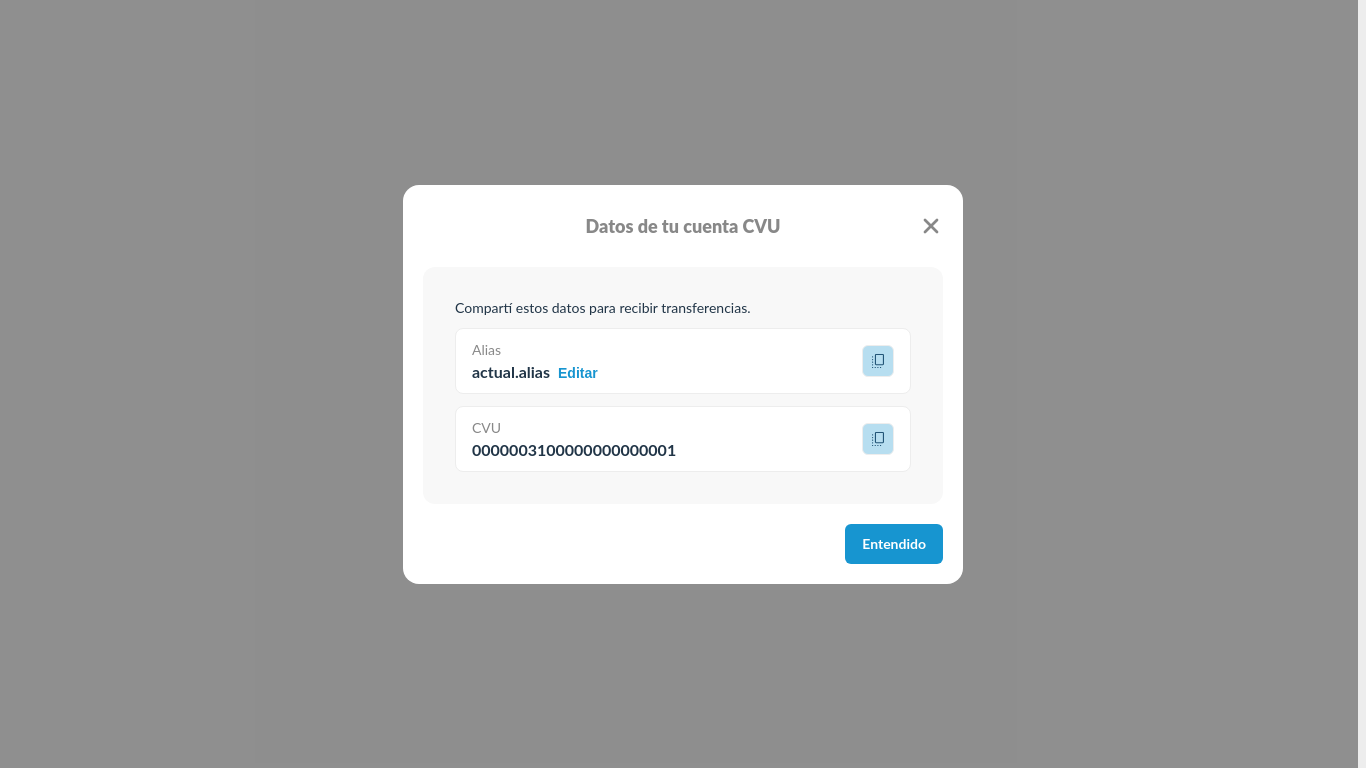
AccountDetailsFlow › warns instead of editing when the alias is frozen
This screenshot has width=1366, height=768.
Click the button "Editar". click: (578, 372)
box: x1=558 y1=364 x2=598 y2=380
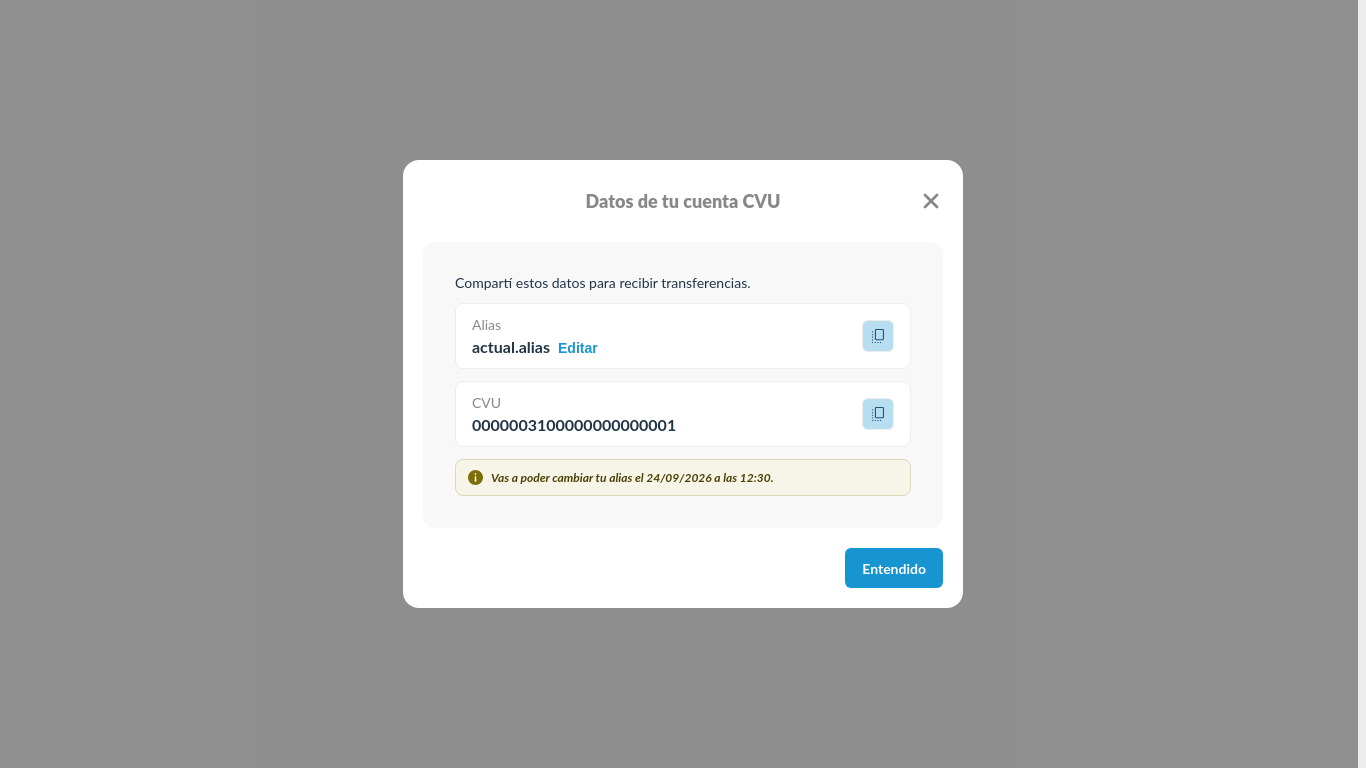
Now the text "Vas a poder cambiar tu alias el 24/09/2026 a las 12:30." is shown, box x1=491 y1=470 x2=774 y2=485
